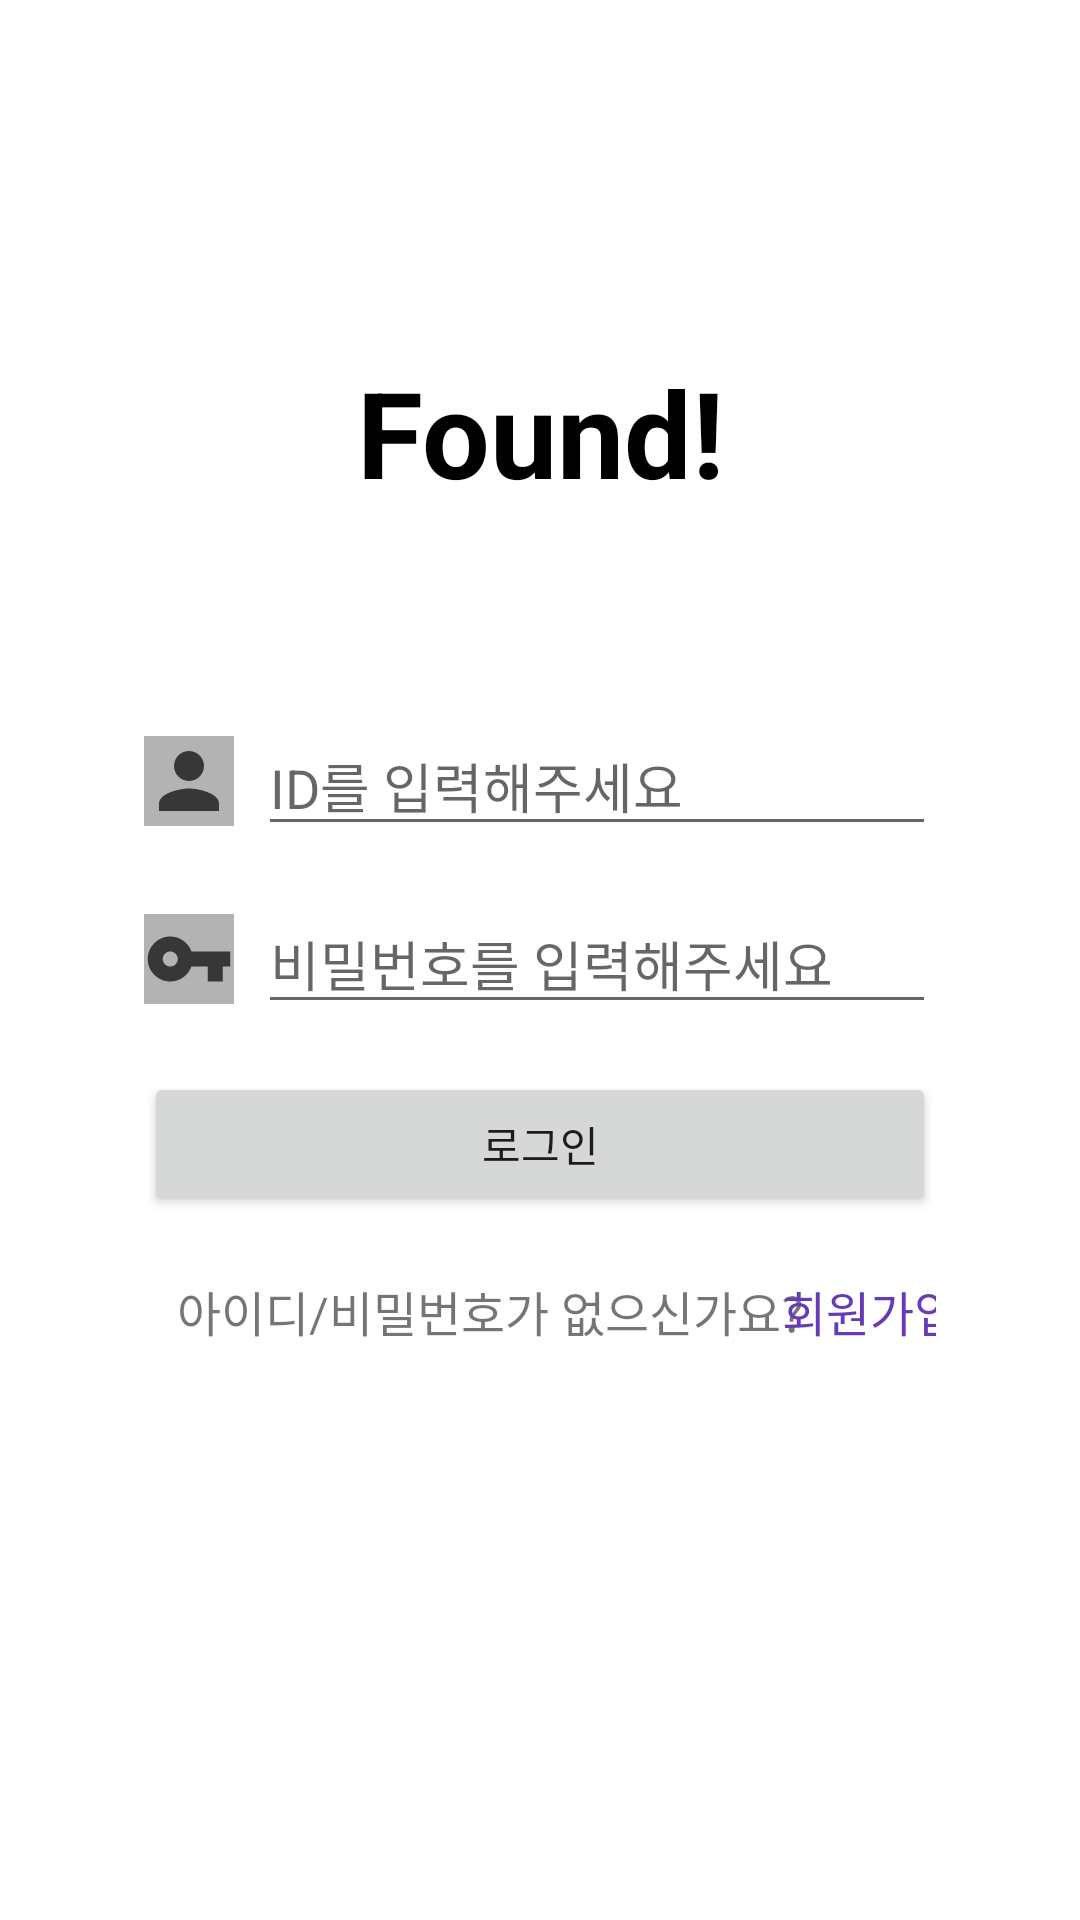

Where to tap for icons on this 1080×1920 app screen, as point (x, y):
person: point (189, 781)
vpn key: point (189, 959)
